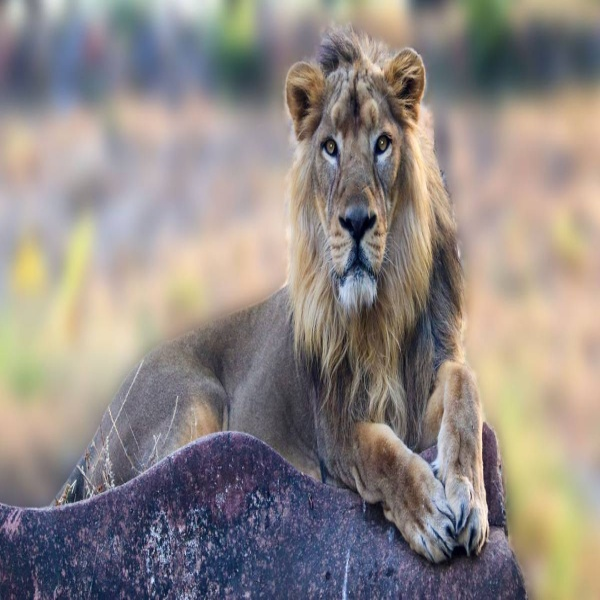Lion: (60, 22, 494, 568)
